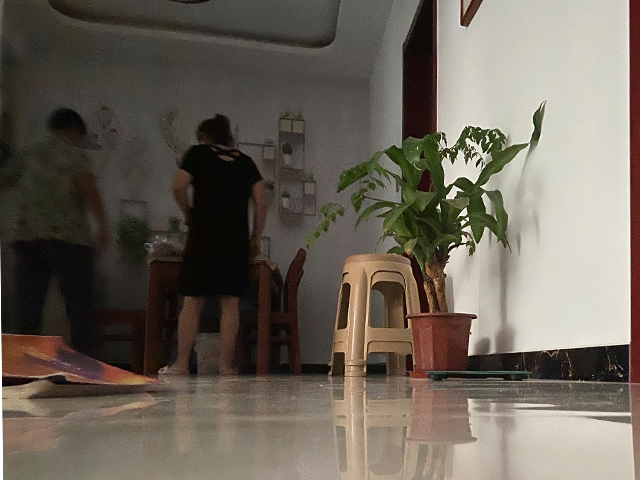book: (1, 332, 170, 401)
stool: (326, 251, 420, 379), (235, 246, 308, 375), (87, 304, 145, 378)
table: (141, 254, 283, 378)
